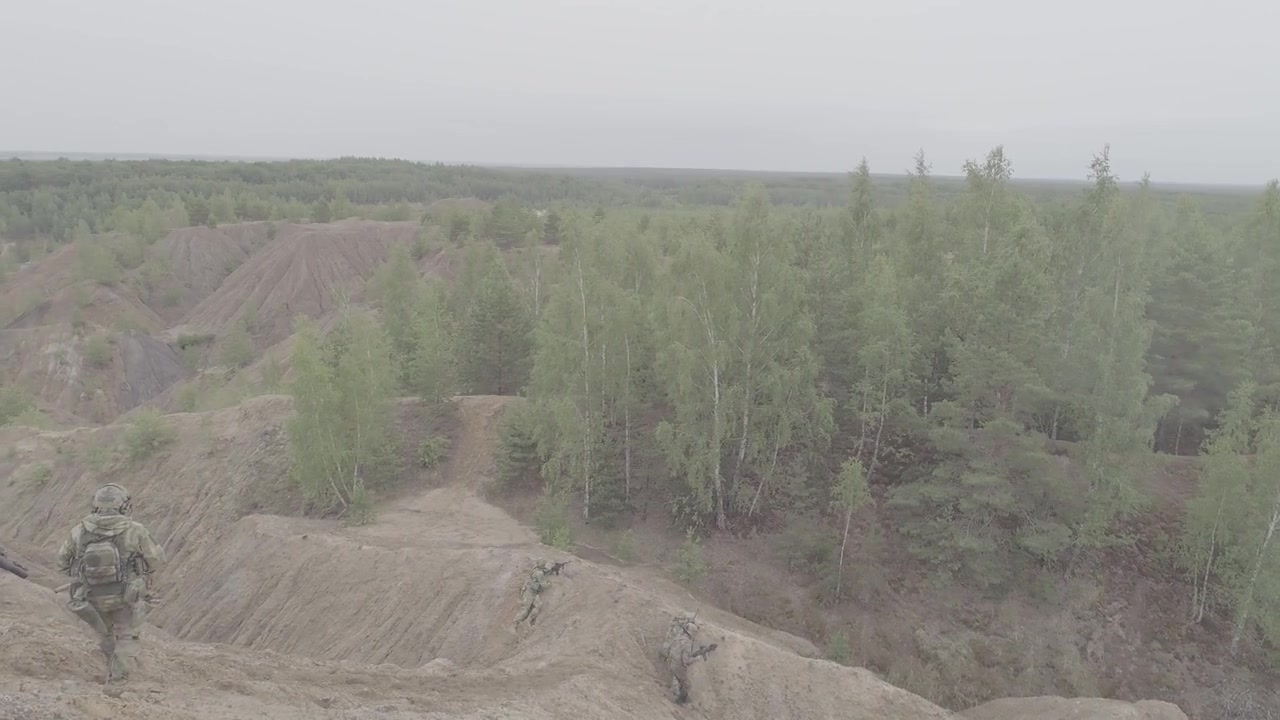person: (81, 488, 120, 686)
